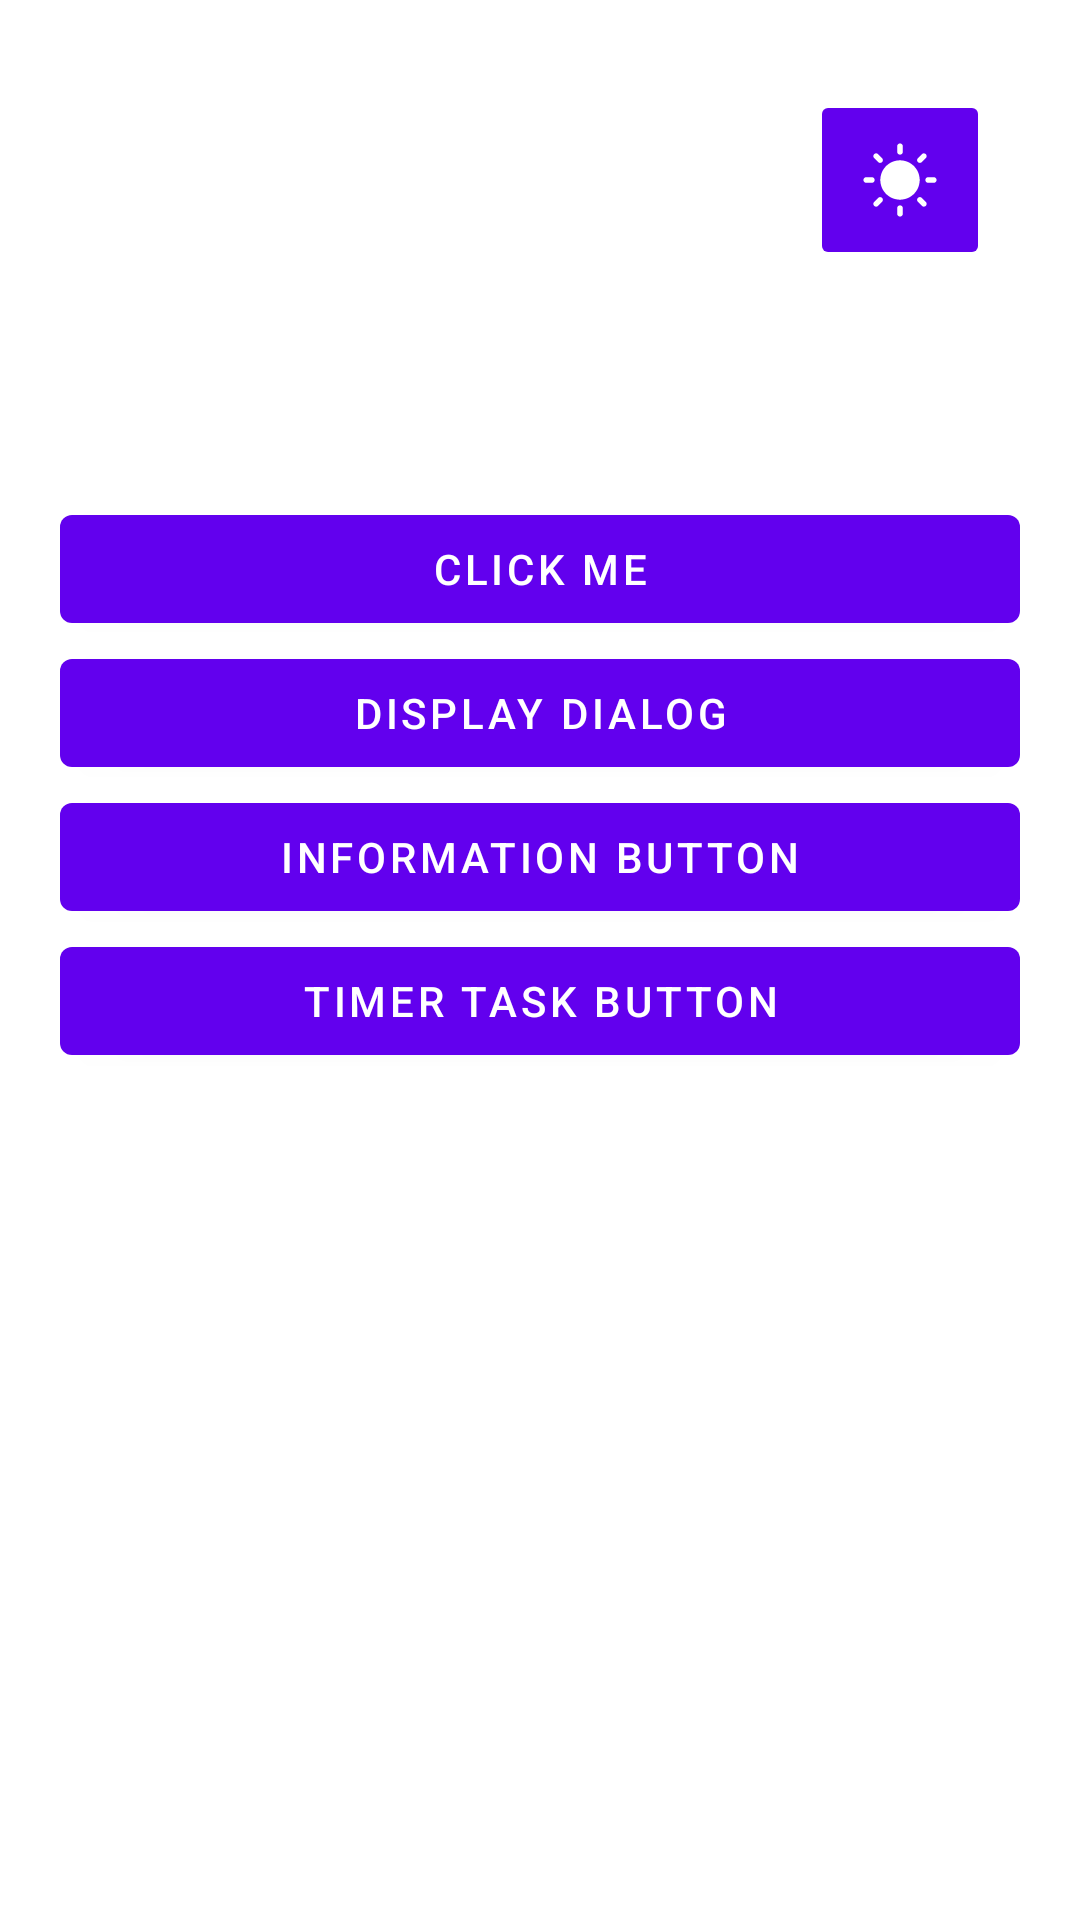

Icon bounding boxes for this 1080*1920 phone screenshot, format box(x1, y1, x2, y2):
sun: box(822, 108, 978, 252)
